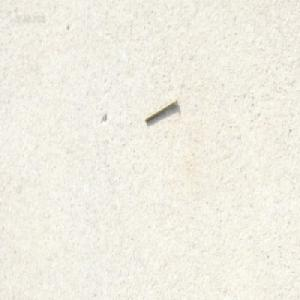Bolt: (144, 95, 177, 123)
